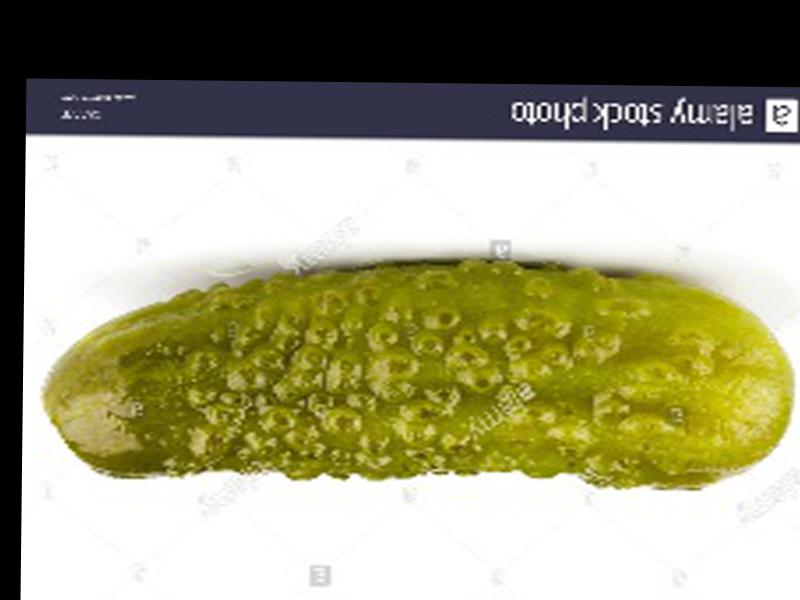Cucumber: (38, 255, 795, 491)
